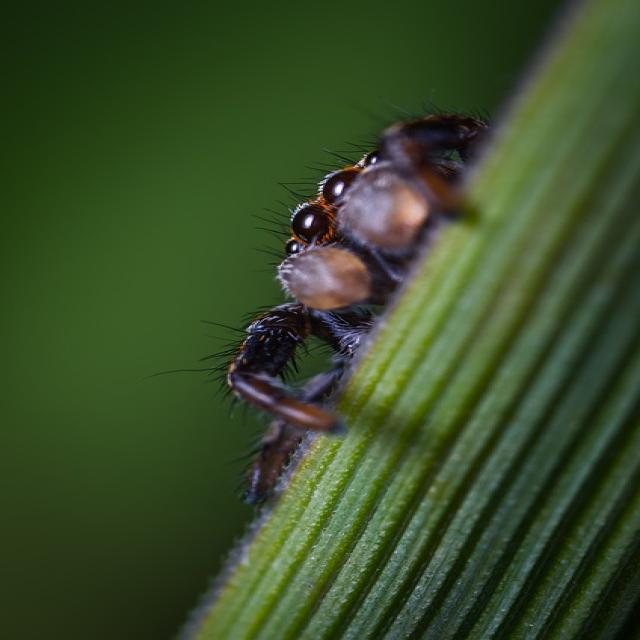spyder: (226, 114, 491, 501)
